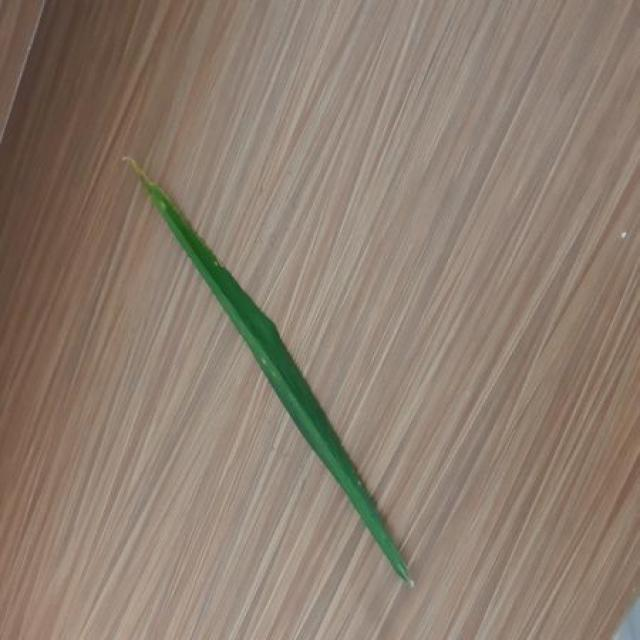leaf: (120, 153, 416, 590)
